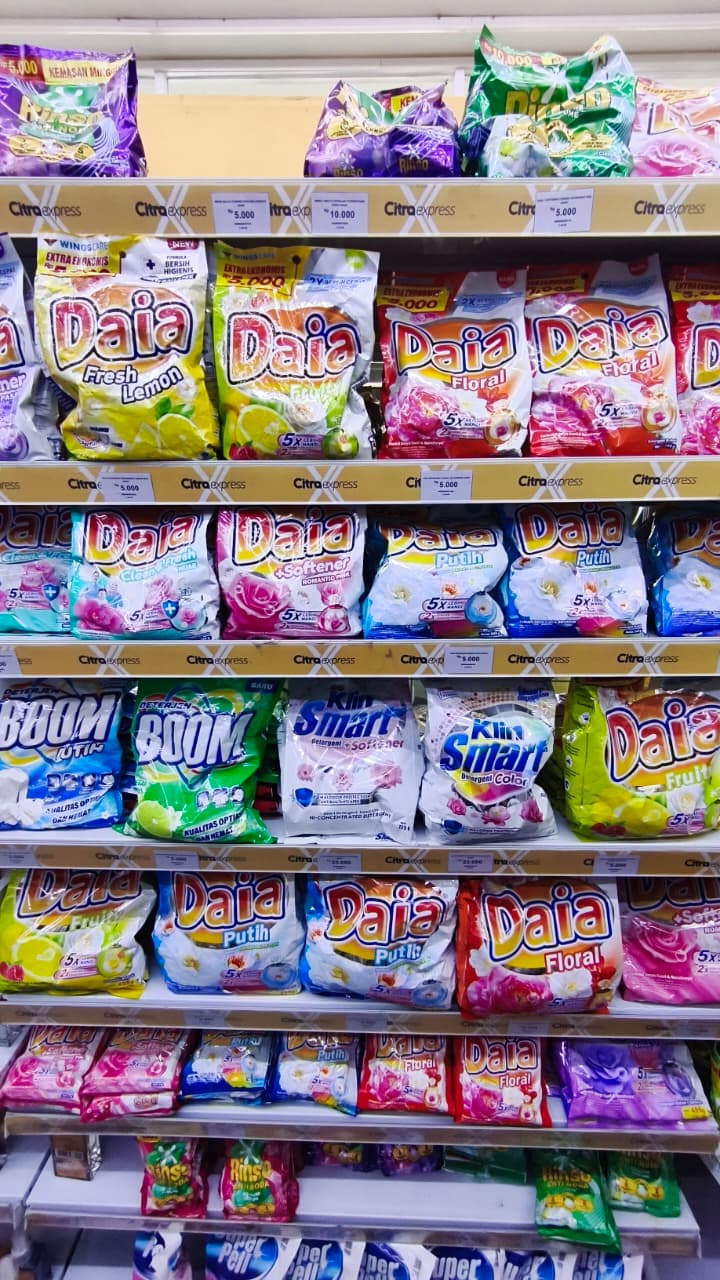Boom: (2, 681, 132, 811)
Daia: (42, 276, 211, 445), (370, 304, 539, 473), (208, 493, 377, 662), (480, 866, 627, 1013)
Klin smart: (433, 698, 559, 824)
